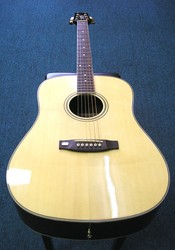guitar: (4, 9, 170, 242)
